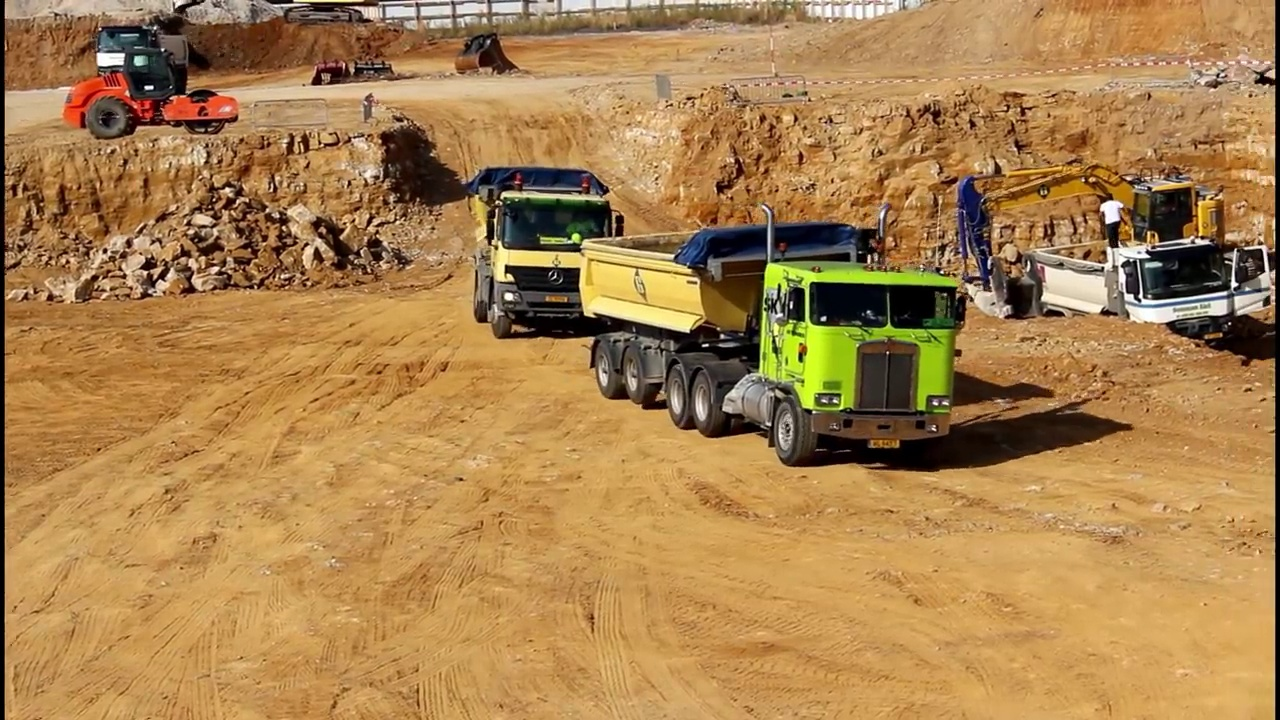compactor: (62, 47, 241, 140)
excavator: (955, 164, 1257, 341)
truck: (572, 200, 974, 471), (1033, 237, 1280, 360), (465, 164, 629, 341), (93, 21, 192, 112)
worker: (1100, 192, 1126, 252)
